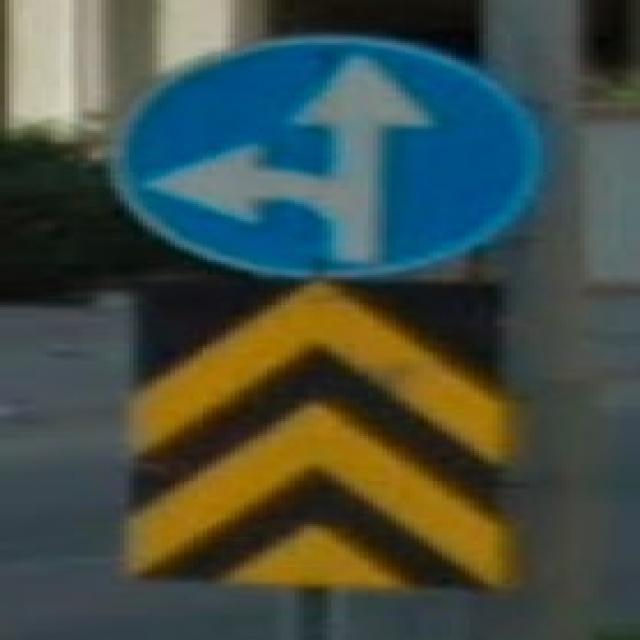Straight or Left: (114, 38, 542, 278)
